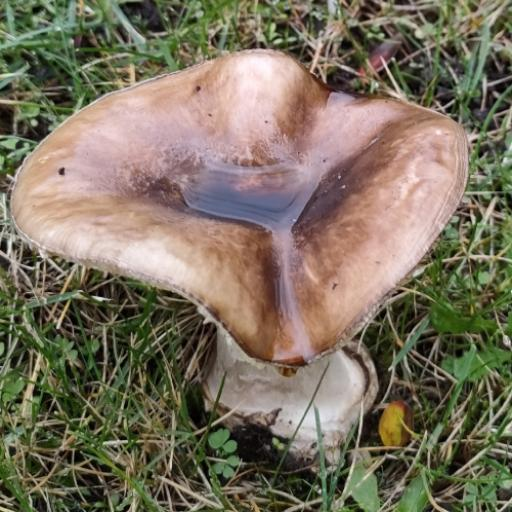mushroom: (0, 0, 480, 454)
